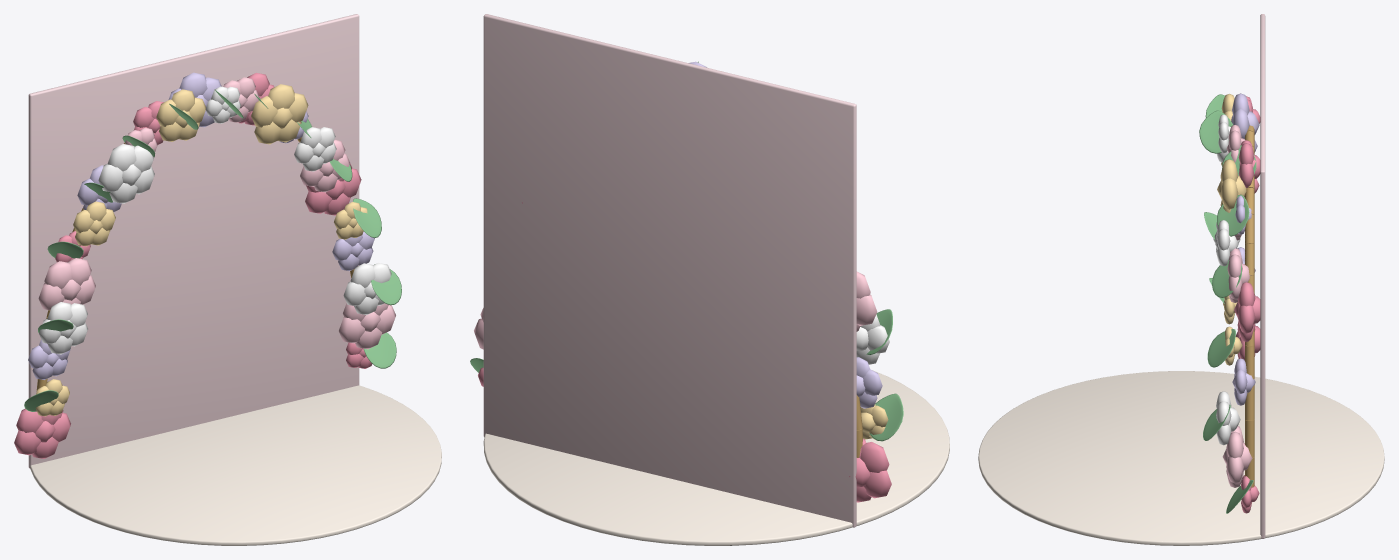
Rendered from furn_arch.glb.
3 views of the same model, side by side, from view 1: azimuth 30°, elevation 25°; view 2: azimuth 150°, elevation 25°; view 3: azimuth 270°, elevation 25° (orthographic). The views are drawn at different scales.
Visible parts, largest first — view 1: Cube; view 2: Cube; view 3: Cube.
Part boxes in pixels (left/top/right/bottom): Cube: left=14, top=14, right=441, bottom=545; Cube: left=470, top=14, right=949, bottom=545; Cube: left=978, top=14, right=1384, bottom=545.
Bounding box in the file's own units: 2.63 × 2.5 × 2.5.
